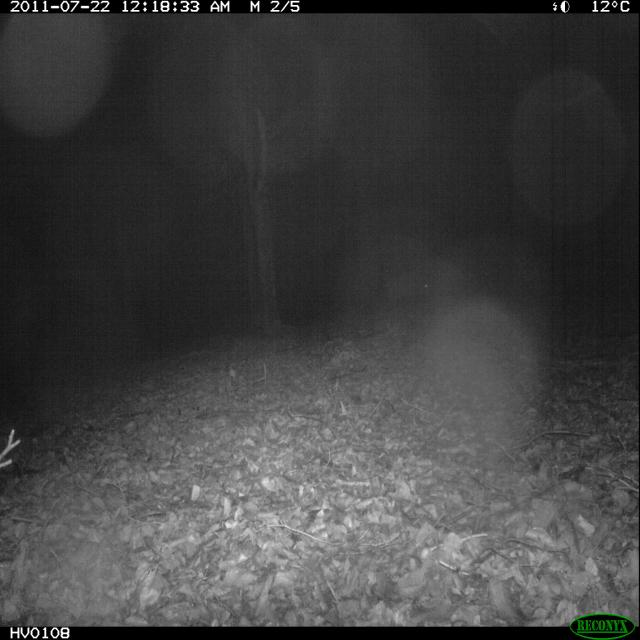boar: (380, 254, 440, 312)
